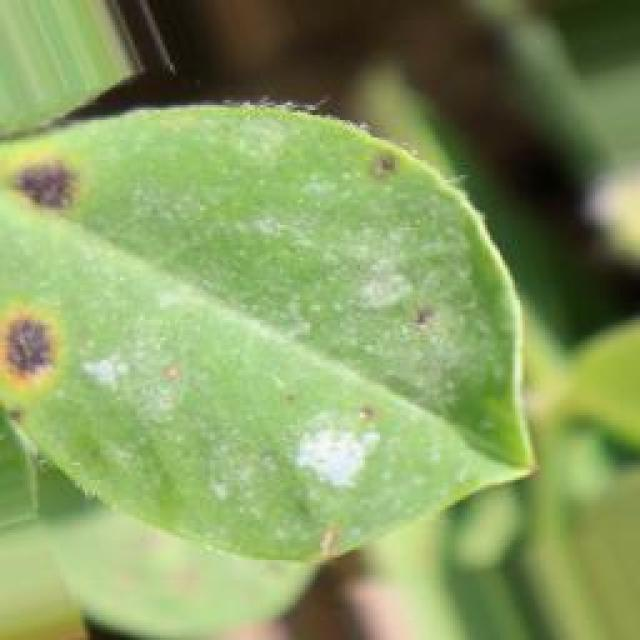Sigatoka: (0, 130, 137, 222), (0, 278, 90, 410), (331, 141, 399, 215), (407, 308, 477, 368), (357, 378, 403, 432)
